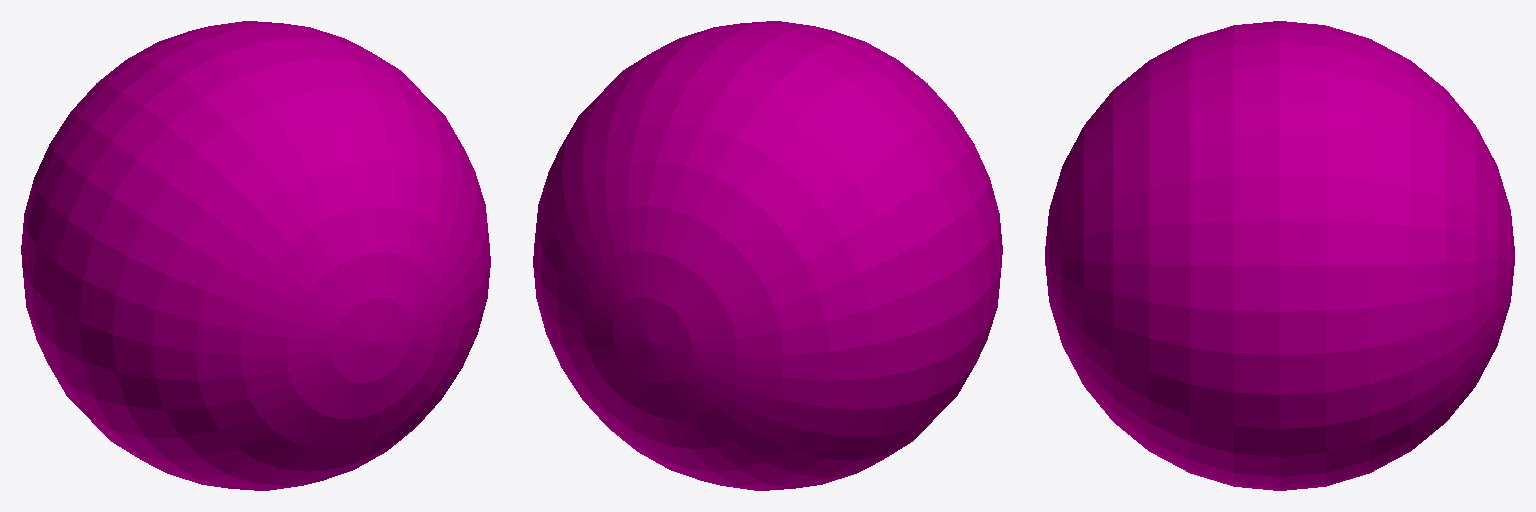
The model's file is player.obj.
3 renders of one model, left to right at view 1: azimuth 30°, elevation 25°; view 2: azimuth 150°, elevation 25°; view 3: azimuth 270°, elevation 25°, orthographic.
Visible parts, largest first — view 1: Player; view 2: Player; view 3: Player.
Part boxes in pixels (bbox=[...]): Player: bbox=[21, 21, 490, 490]; Player: bbox=[533, 21, 1002, 490]; Player: bbox=[1045, 21, 1514, 490].
Size of the model in its own units: 0.5323 by 0.5323 by 0.5323.